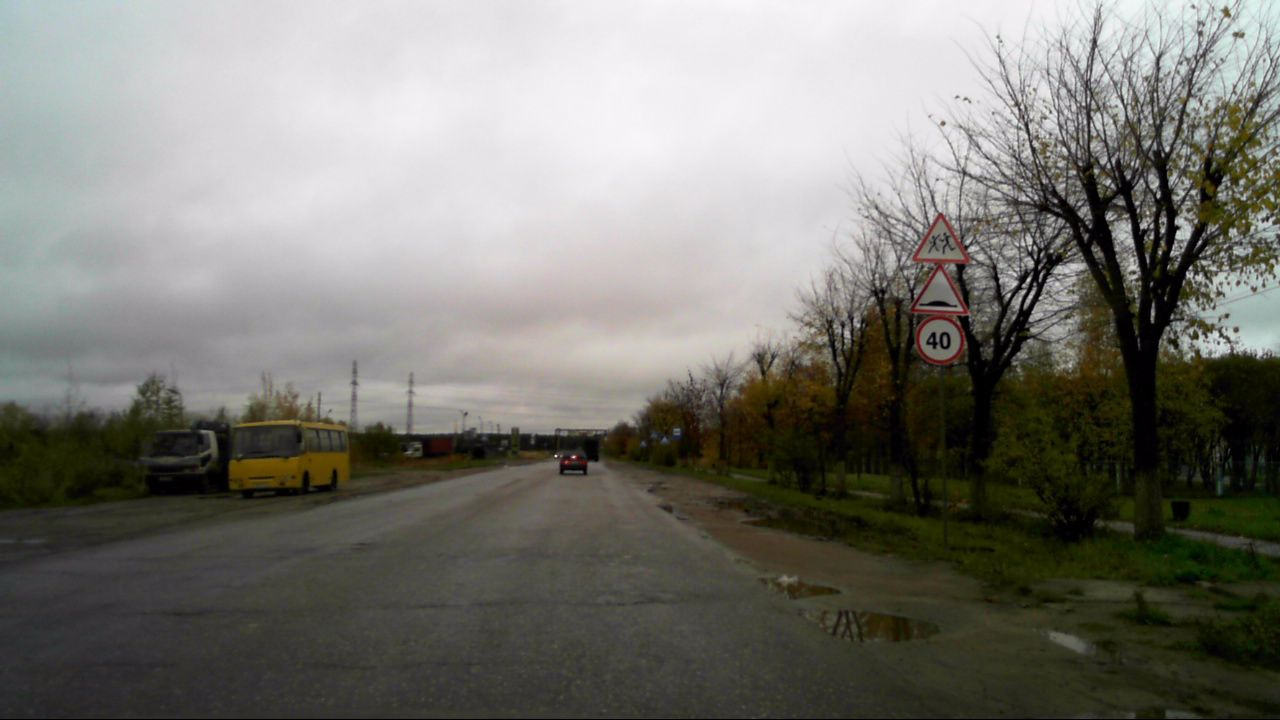speed_warning_40: (914, 314, 966, 366)
